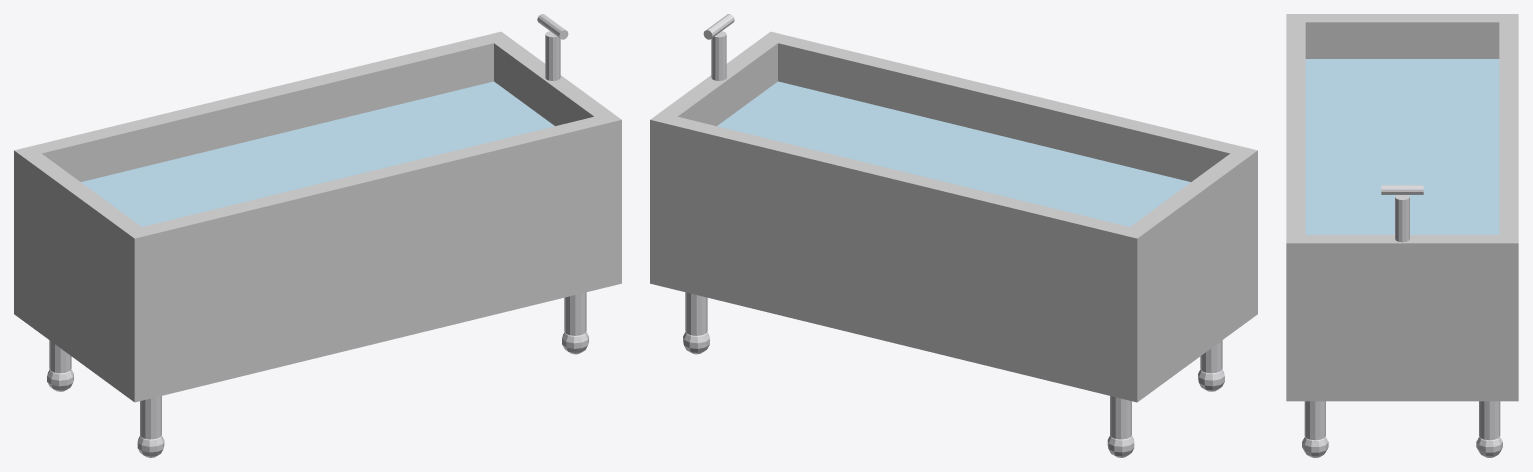
The model's file is Bathtub.fbx.
3 renders of one model, left to right at view 1: azimuth 30°, elevation 25°; view 2: azimuth 150°, elevation 25°; view 3: azimuth 270°, elevation 25°, orthographic. The views are drawn at different scales.
Parts seen in each view (by area): view 1: WallR, Water, WallFoot, WallL, Floor, WallHead, Leg.001, Leg.003, FaucetStem; view 2: WallL, Water, WallFoot, WallR, Floor, WallHead, Leg, Leg.002, FaucetStem; view 3: WallHead, Water, WallFoot, WallL, WallR, Floor, Leg, Leg.001, FaucetStem, Claw, Claw.001, Spout.
Part boxes in pixels (left/top/right/bottom): WallR: left=124, top=116, right=621, bottom=401; Water: left=81, top=81, right=554, bottom=226; WallFoot: left=14, top=146, right=151, bottom=402; WallL: left=14, top=32, right=510, bottom=304; Floor: left=26, top=265, right=621, bottom=402; WallHead: left=484, top=31, right=621, bottom=287; Leg.001: left=564, top=292, right=586, bottom=335; Leg.003: left=140, top=396, right=161, bottom=439; FaucetStem: left=545, top=31, right=560, bottom=80; WallL: left=650, top=116, right=1147, bottom=398; Water: left=717, top=81, right=1190, bottom=226; WallFoot: left=1120, top=146, right=1257, bottom=400; WallR: left=764, top=32, right=1257, bottom=288; Floor: left=650, top=266, right=1257, bottom=402; WallHead: left=650, top=32, right=787, bottom=287; Leg: left=685, top=292, right=707, bottom=335; Leg.002: left=1110, top=396, right=1131, bottom=439; FaucetStem: left=711, top=31, right=726, bottom=80; WallHead: left=1286, top=235, right=1518, bottom=401; Water: left=1305, top=59, right=1499, bottom=234; WallFoot: left=1286, top=14, right=1518, bottom=58; WallL: left=1499, top=14, right=1518, bottom=401; WallR: left=1286, top=14, right=1305, bottom=400; Floor: left=1286, top=383, right=1518, bottom=401; Leg: left=1479, top=401, right=1500, bottom=440; Leg.001: left=1304, top=401, right=1325, bottom=440; FaucetStem: left=1395, top=195, right=1409, bottom=242; Claw: left=1476, top=436, right=1502, bottom=457; Claw.001: left=1302, top=436, right=1328, bottom=457; Spout: left=1381, top=185, right=1423, bottom=194.
Bounding box in the file's own units: 280 × 161 × 120.
